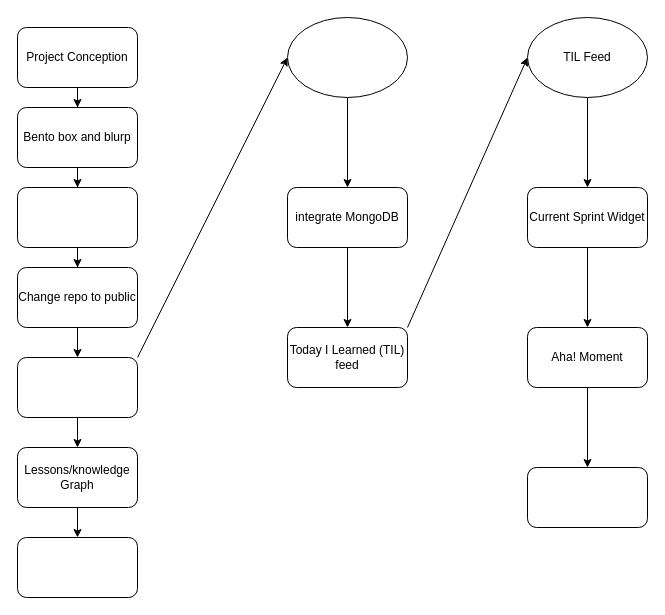
Image size: 665x615. Some labels were removed from this diagram. Here are the shapes that lost their labels. From the top down, the centre of each, then its label:
At point 347,57: "Dev Dairy".
At point 77,217: "Deploy site with CI/CD".
At point 77,387: "Dev Diary".
At point 587,497: "Comment Linking".
At point 77,567: "Project Showcase".
